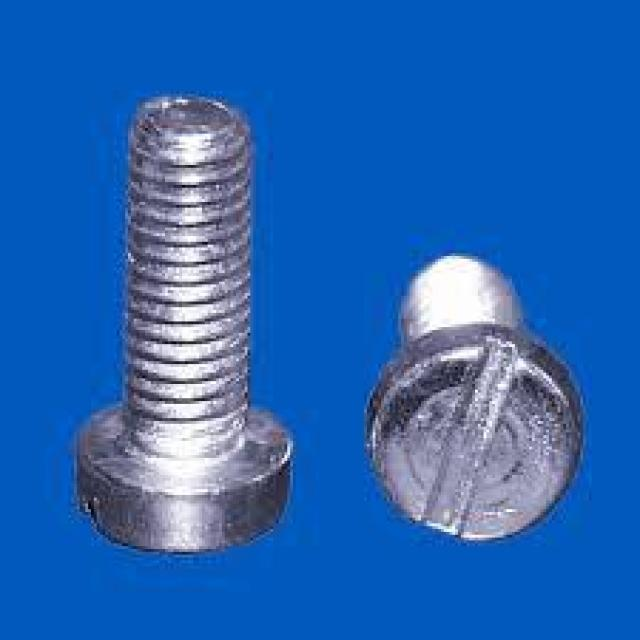Dry Waste: (39, 49, 640, 590)
